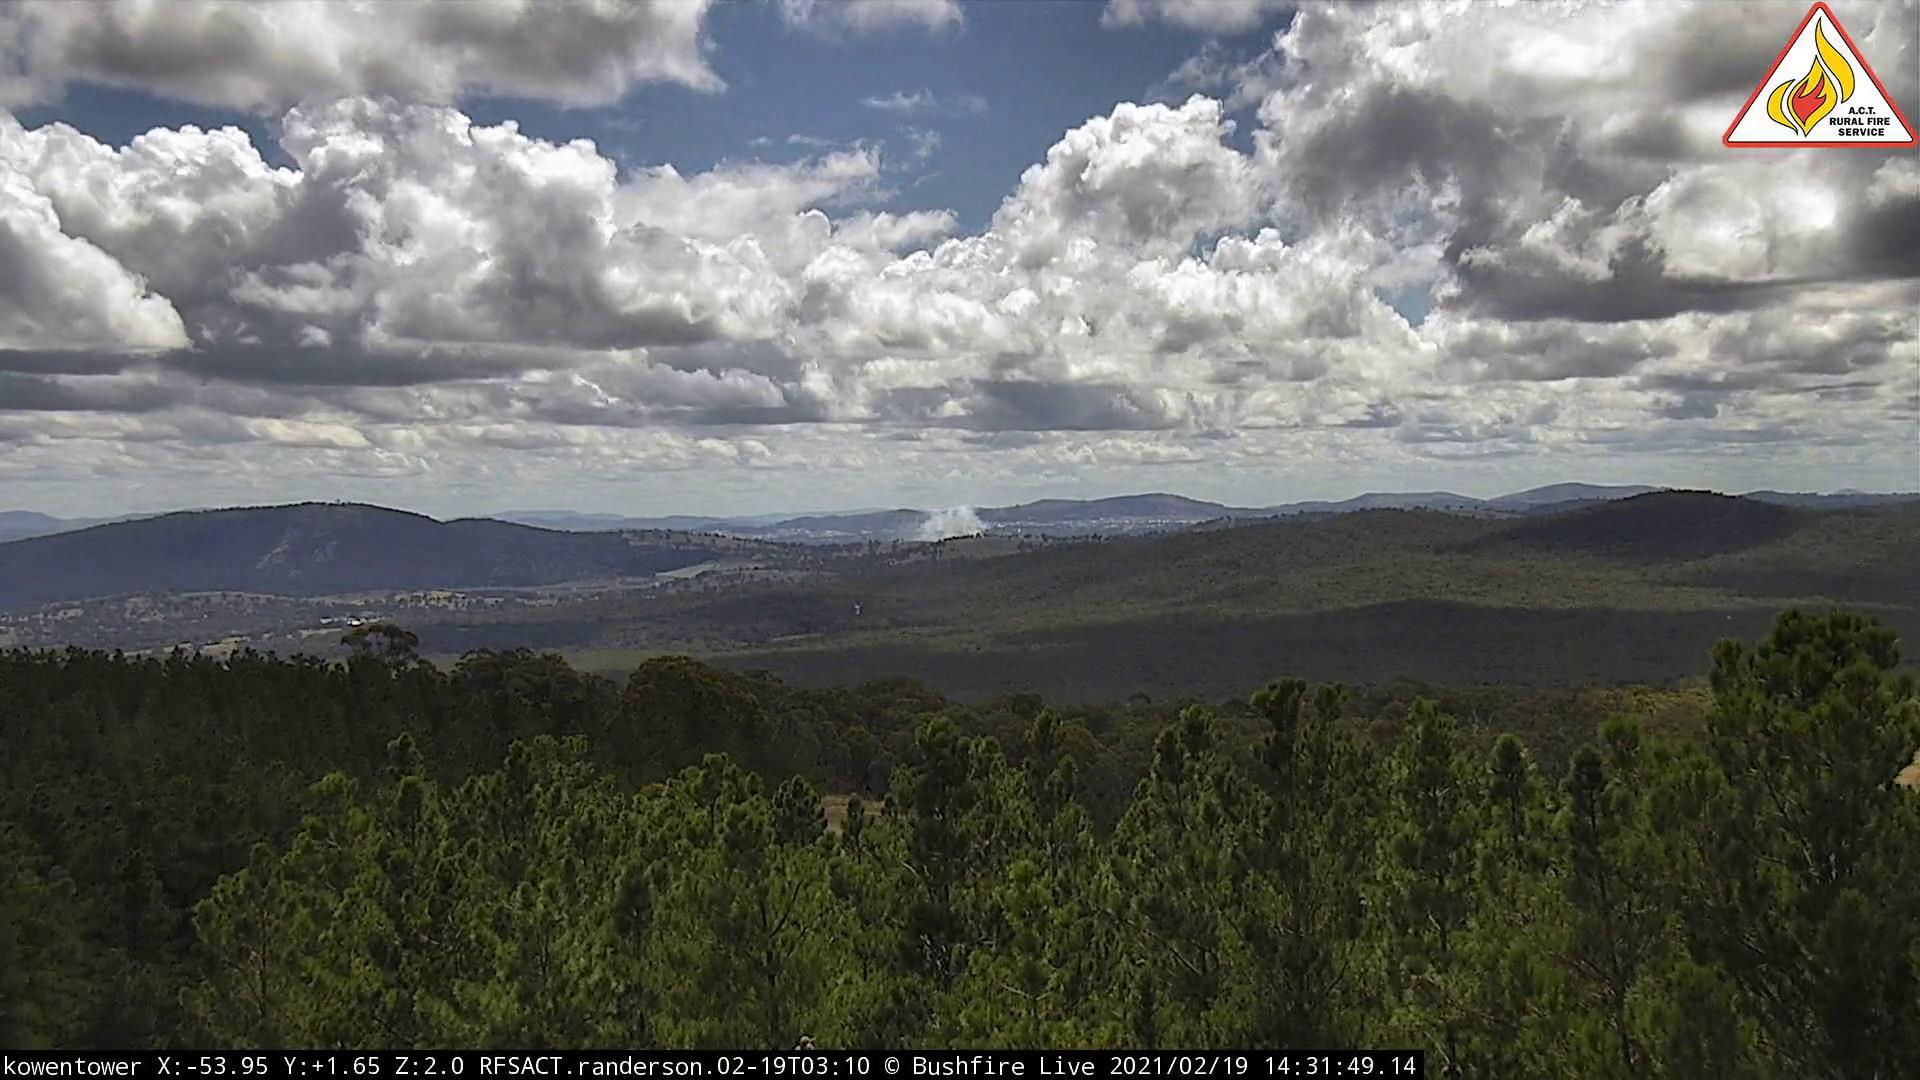Smoke: (895, 489, 994, 550)
